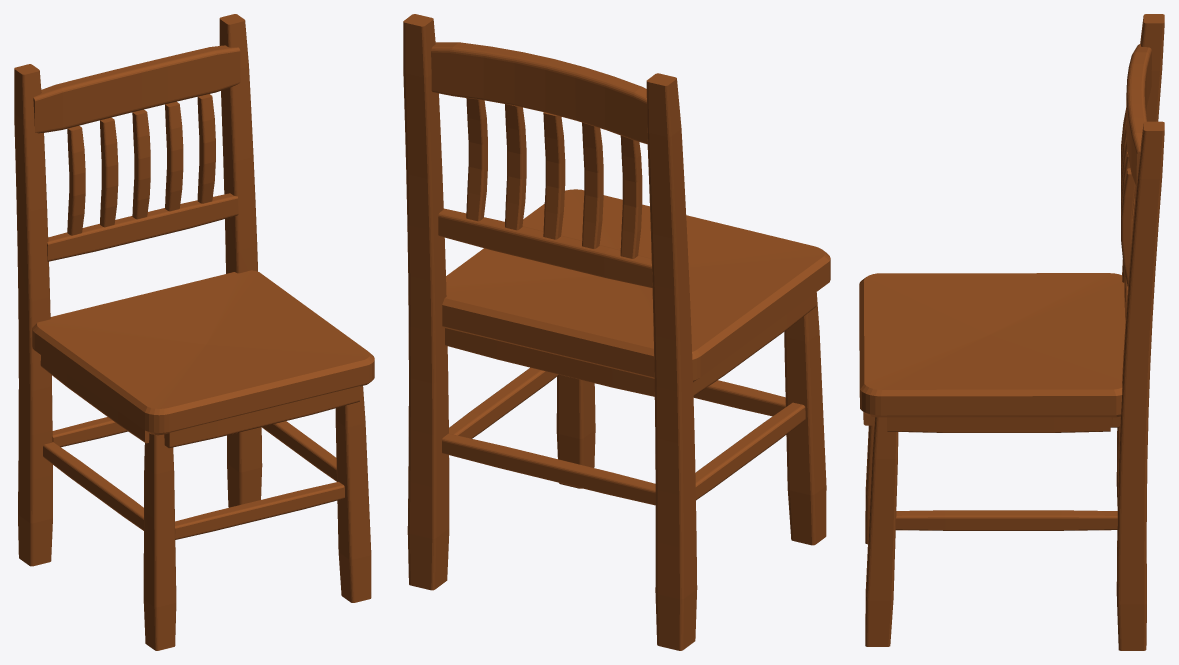
Rendered from chair_bistro_01.fbx.
The picture shows the model from 3 angles, left to right: view 1: azimuth 30°, elevation 25°; view 2: azimuth 150°, elevation 25°; view 3: azimuth 270°, elevation 25°; orthographic projection. The views are drawn at different scales.
Visible parts, largest first — view 1: MSH_chair_bistro_01_body; view 2: MSH_chair_bistro_01_body; view 3: MSH_chair_bistro_01_body.
Boxes of the visible parts, x1,y1,x2,y2 form: MSH_chair_bistro_01_body: [14, 14, 374, 650]; MSH_chair_bistro_01_body: [403, 14, 830, 650]; MSH_chair_bistro_01_body: [859, 14, 1164, 650].
Bounding box in the file's own units: 46.47 × 92 × 49.21.
